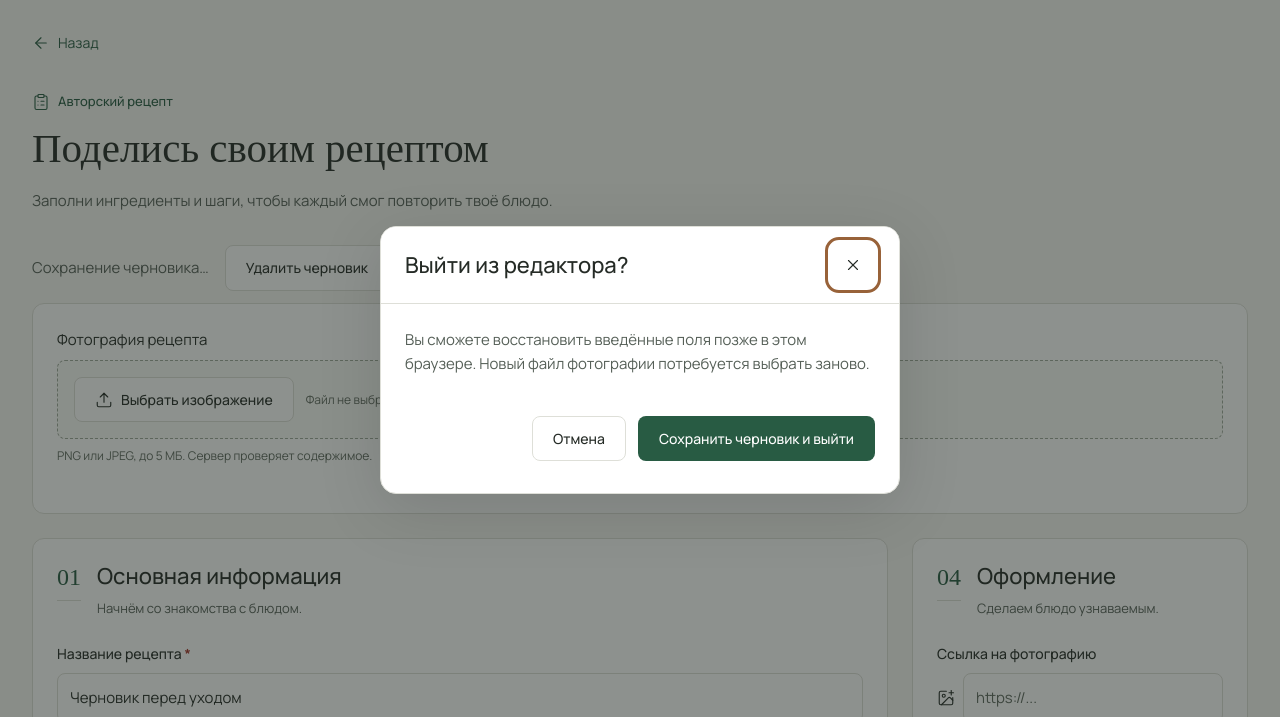
Test: предупреждает при Back, позволяет остаться и сохраняет при подтверждении ухода
Earlier steps of the test are not shown.
Later steps or results of the test are not shown.
Expected: the dialog "Выйти из редактора?" is shown, [380,226,900,494]
Click the button "Отмена". click: [579, 438]
box: [532,416,626,461]
(page scrolled)
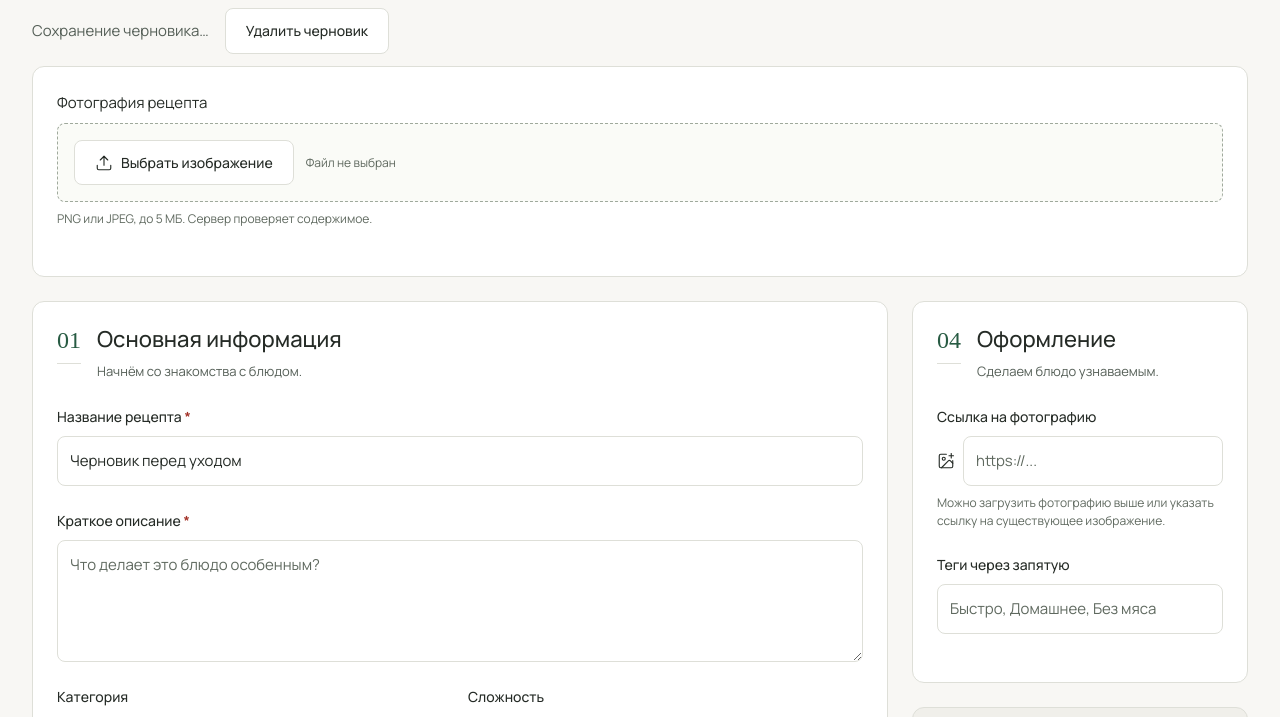
Expected: the field labelled "Название рецепта *" holds "Черновик перед уходом", [57,436,863,486]
Expected: the dialog is gone
